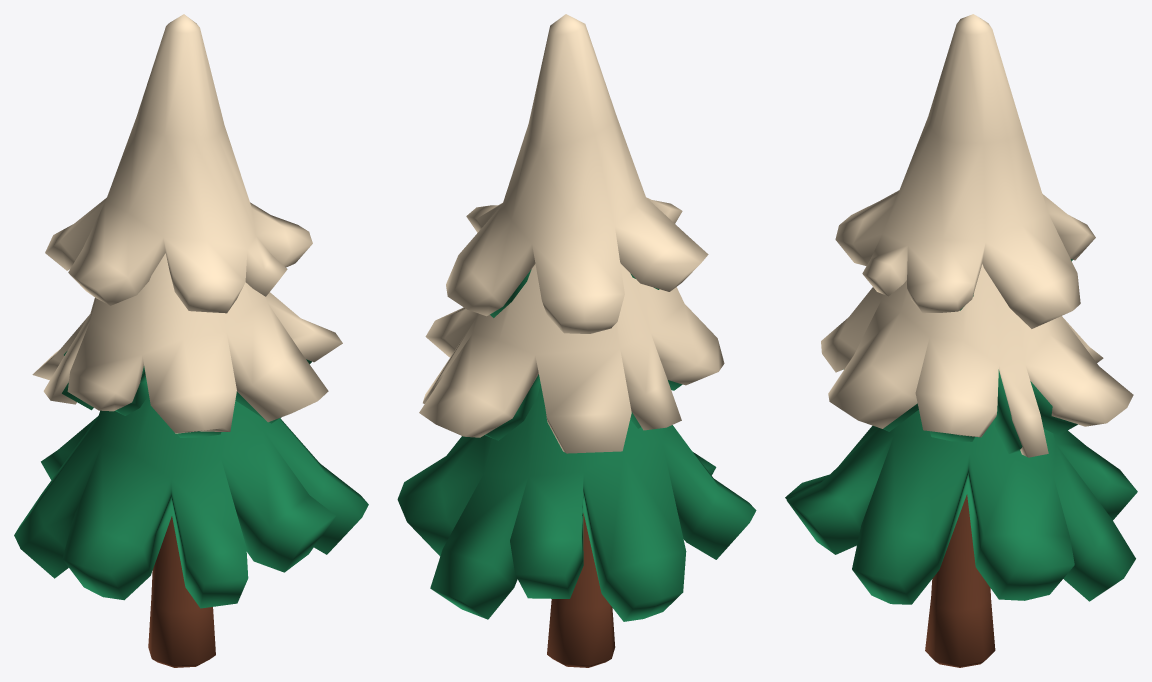
The model's file is treesnow1.fbx.
The picture shows the model from 3 angles, left to right: view 1: azimuth 30°, elevation 25°; view 2: azimuth 150°, elevation 25°; view 3: azimuth 270°, elevation 25°; orthographic projection.
Visible parts, largest first — view 1: tree1.1; view 2: tree1.1; view 3: tree1.1.
Boxes of the visible parts, left/top/right/bottom form: tree1.1: left=14, top=14, right=368, bottom=667; tree1.1: left=397, top=14, right=756, bottom=667; tree1.1: left=785, top=14, right=1137, bottom=667.
Size of the model in its own units: 46.49 by 96.74 by 47.9.
